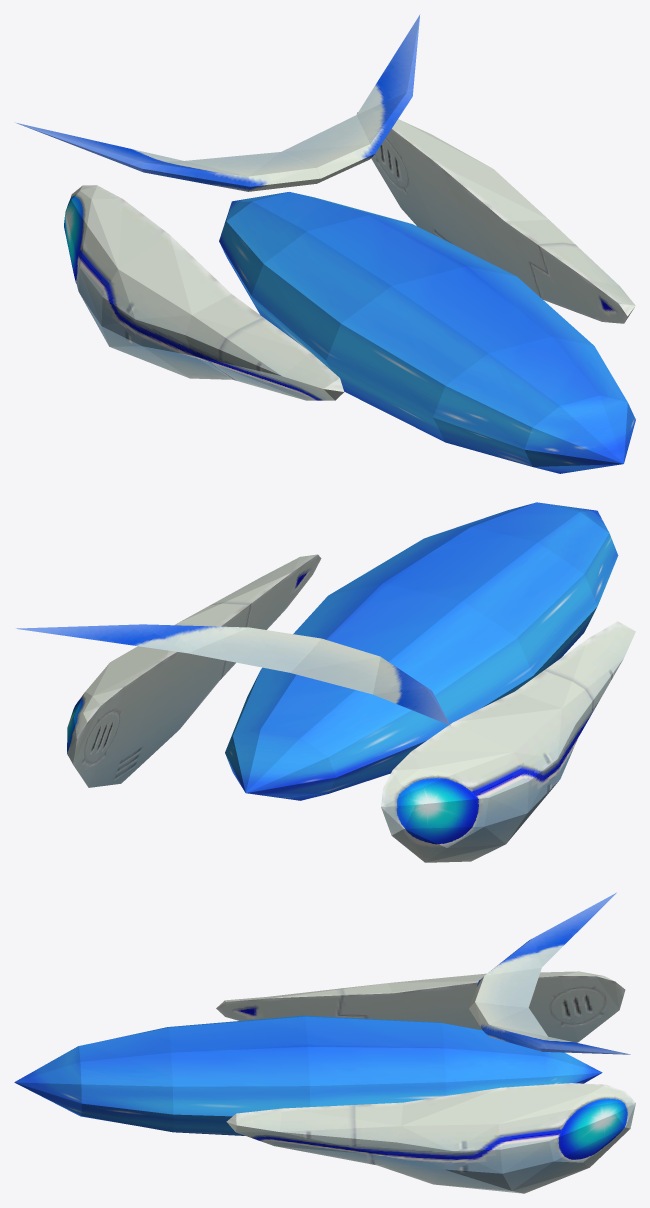
3 views of the same model, one above another, from view 1: azimuth 30°, elevation 25°; view 2: azimuth 150°, elevation 25°; view 3: azimuth 270°, elevation 25° (orthographic). The views are drawn at different scales.
Parts seen in each view (by area): view 1: formulastar; view 2: formulastar; view 3: formulastar.
Part boxes in pixels (box(x1,y1,x2,y2)): formulastar: box(15, 14, 635, 473); formulastar: box(16, 502, 635, 862); formulastar: box(14, 892, 635, 1193).
Bounding box in the file's own units: 45.69 × 19.79 × 72.7.
Materials: 3 (3 with a texture image).
